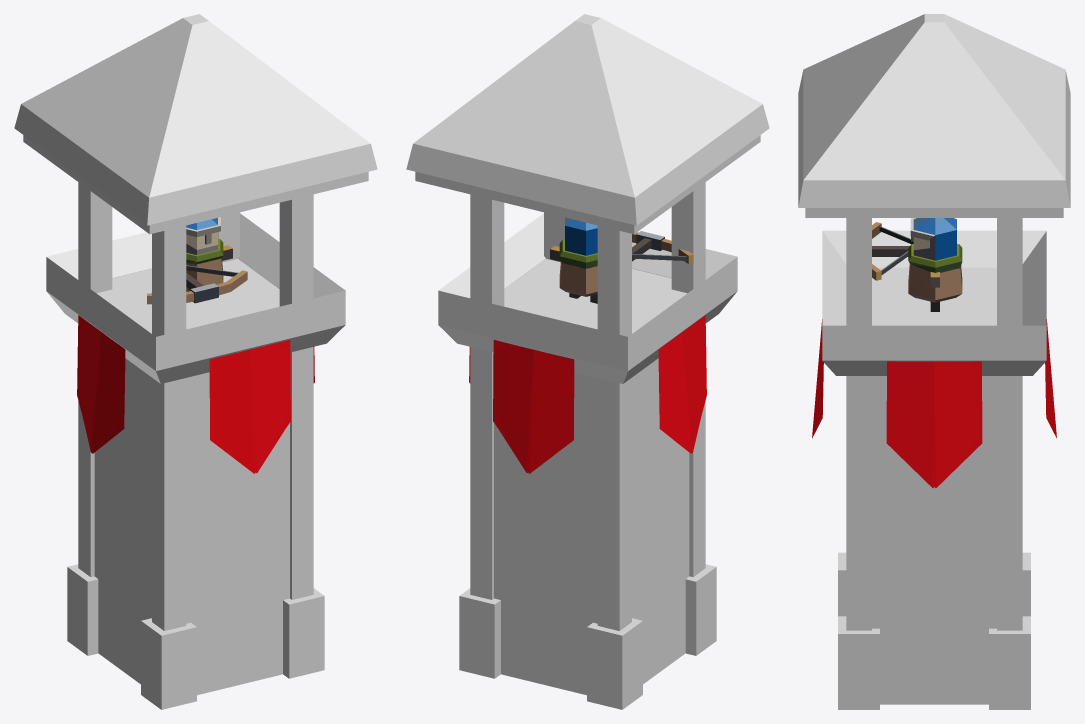
The model's file is ArcherTowerNew.fbx.
3 renders of one model, left to right at view 1: azimuth 30°, elevation 25°; view 2: azimuth 150°, elevation 25°; view 3: azimuth 270°, elevation 25°, orthographic. The views are drawn at different scales.
Parts seen in each view (by area): view 1: Cube, Cube.004, Cube.001, Plane.001, Plane, Cube.002, TB_Soldier_Archer, Cube.003; view 2: Cube, Cube.004, Cube.001, Plane.001, Cube.002, Plane, TB_Soldier_Archer, Cube.003; view 3: Cube, Cube.004, Cube.001, Plane, Cube.002, TB_Soldier_Archer, Cube.003, Plane.001.
Part boxes in pixels (x1,y1,x2,y2): Cube: (46,213,345,695); Cube.004: (14,14,377,225); Cube.001: (67,182,324,709); Plane.001: (209,340,290,473); Plane: (77,315,314,453); Cube.002: (97,259,279,333); TB_Soldier_Archer: (147,217,247,304); Cube.003: (23,135,368,234); Cube: (438,213,737,695); Cube.004: (406,14,769,225); Cube.001: (459,182,716,709); Plane.001: (493,340,574,473); Cube.002: (504,259,686,333); Plane: (469,315,706,453); TB_Soldier_Archer: (550,217,693,303); Cube.003: (415,135,760,234); Cube: (822,230,1046,704); Cube.004: (798,14,1070,207); Cube.001: (838,218,1030,709); Plane: (886,361,982,487); Cube.002: (872,267,996,325); TB_Soldier_Archer: (872,218,962,311); Cube.003: (805,208,1063,217); Plane.001: (812,319,1056,438).
Bounding box in the file's own units: 325 × 857 × 325.
